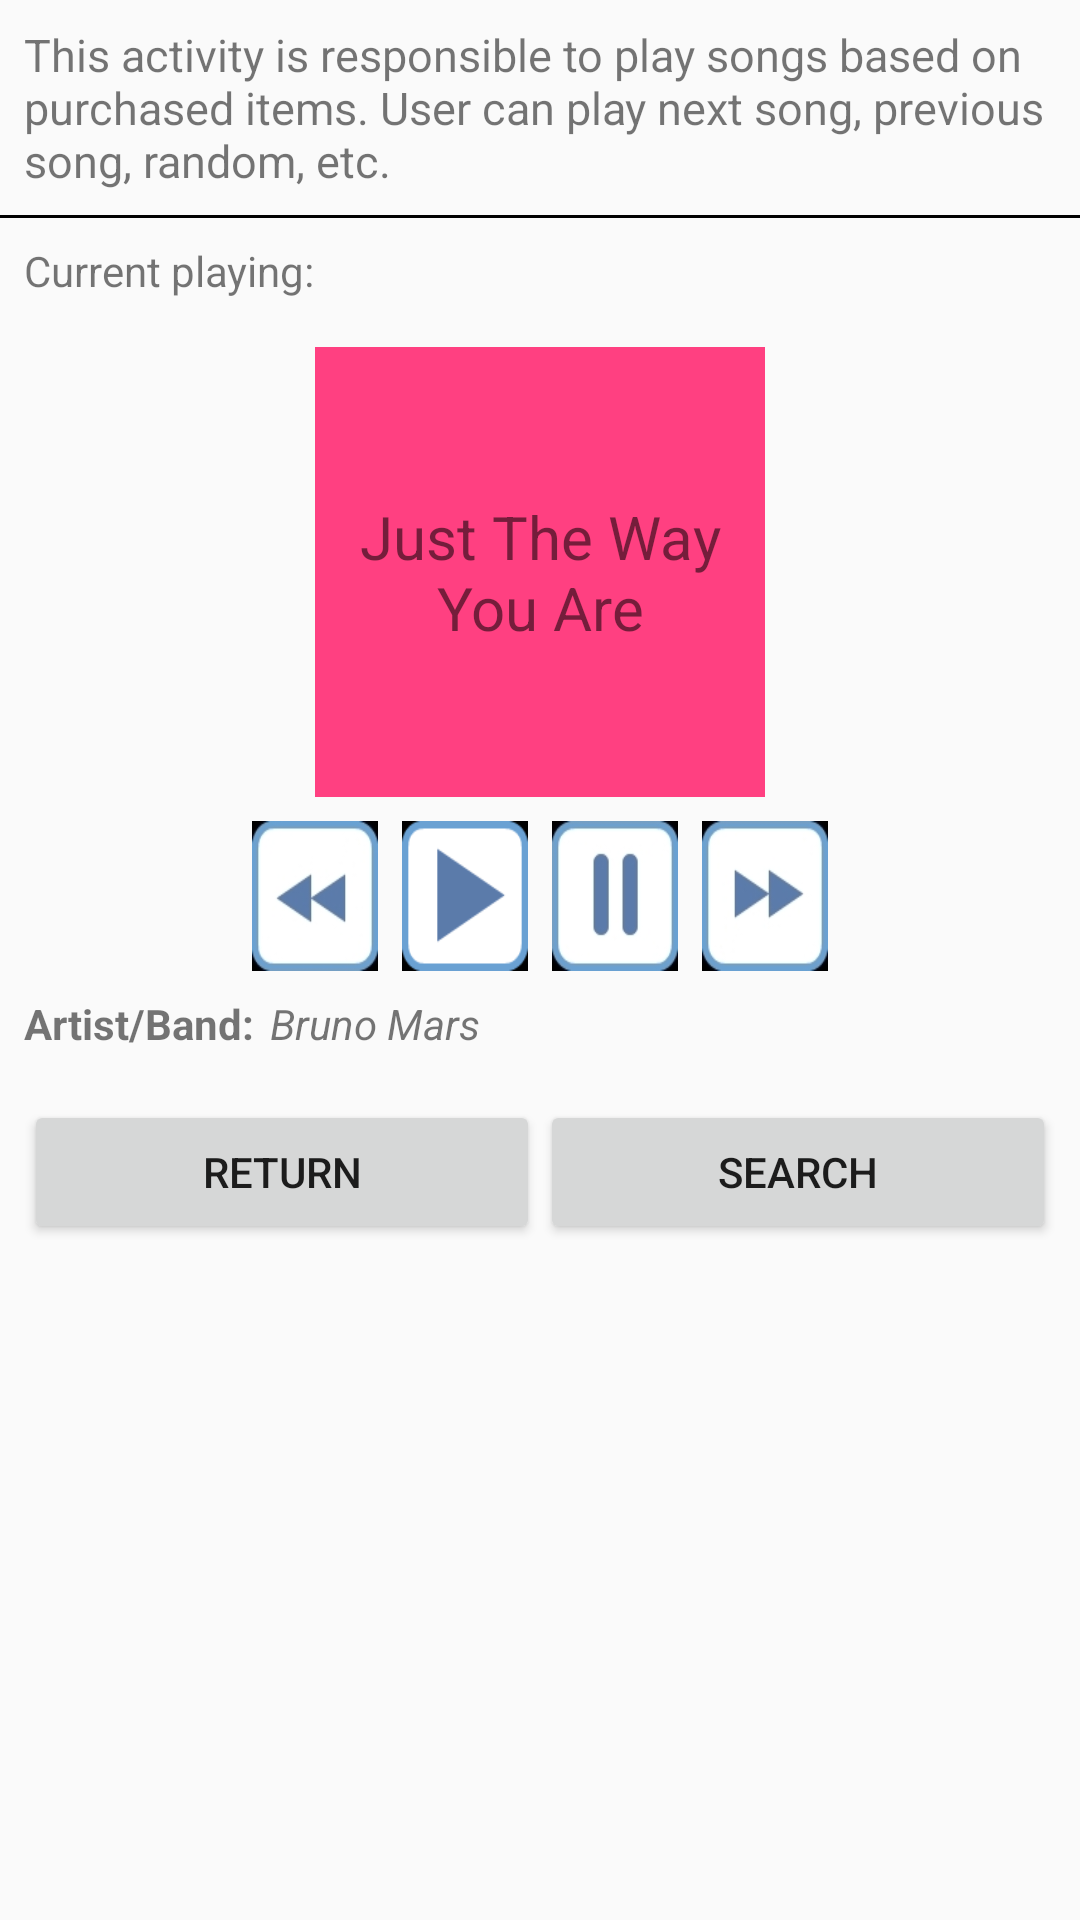

Named icons in this screenshot (1080w x 1920h) and their centers, [x,y]:
next: [765,896]
pause: [615,896]
play: [465,896]
previous: [315,896]
